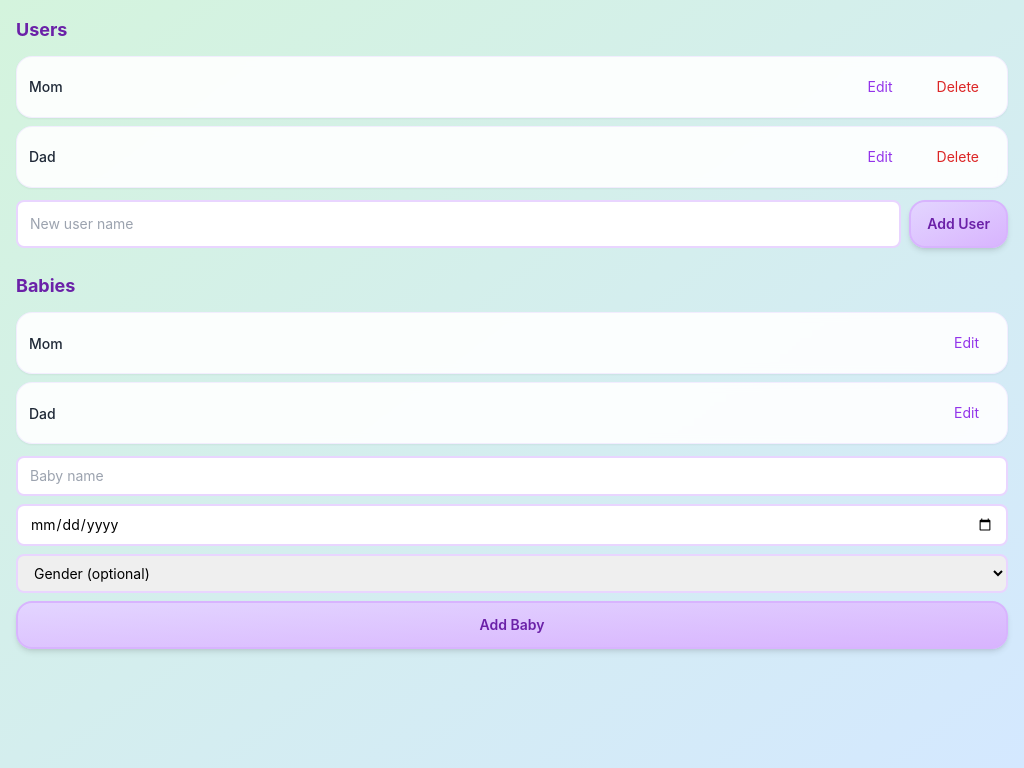
Scenario: Admin — add user › shows error when creating a duplicate user (409)
Type "Mom" into the field with placeholder "New user name" at (459, 224), box [16,200,901,248]
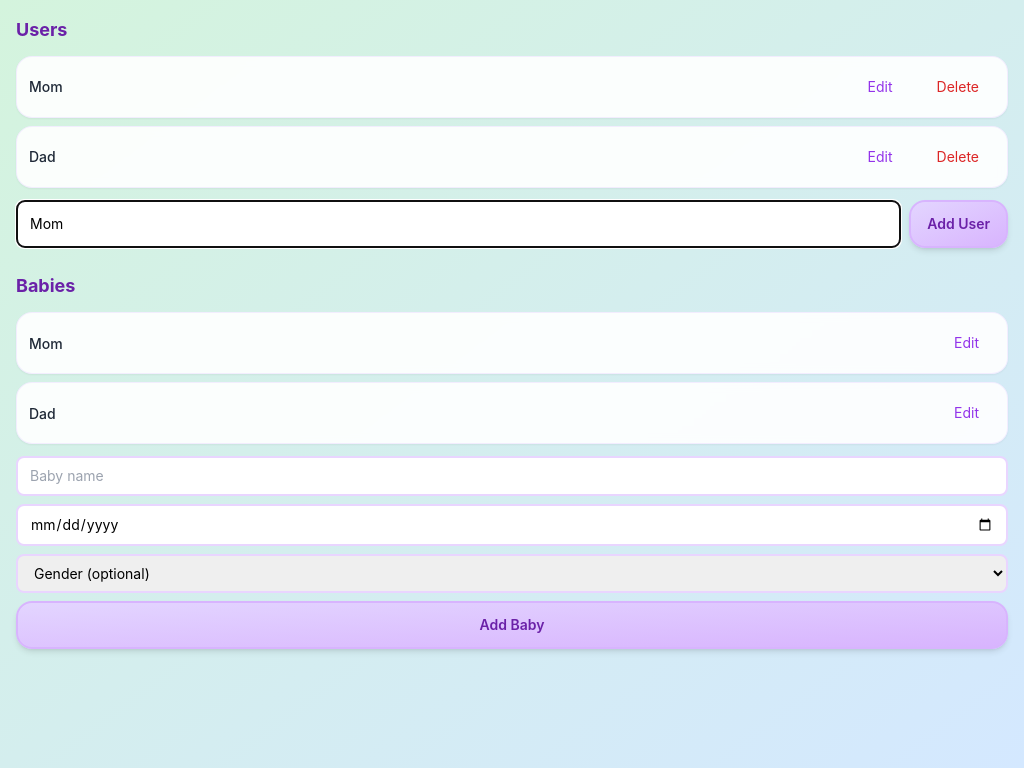
Click the button "Add User" at (959, 224), box [909,200,1008,248]
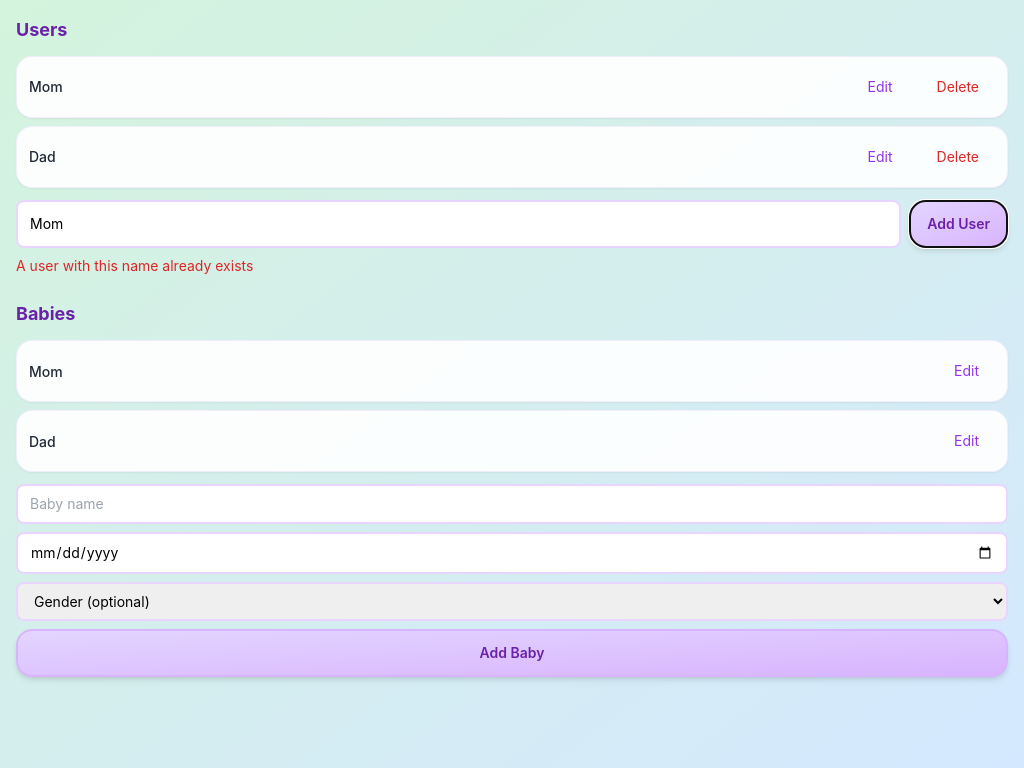
Result: the text "A user with this name already exists" is shown at [16,257,253,274]
